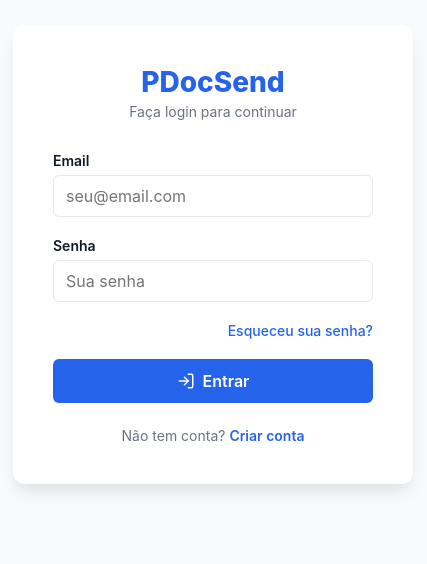
Test case: Login › deve mostrar mensagem pendente quando usuário não tem tenant
The width and height of the screenshot is (427, 564).
Type "test@test.com" into the field with placeholder "seu@email.com" at (213, 196), box top-left (53, 174), bottom-right (373, 216)
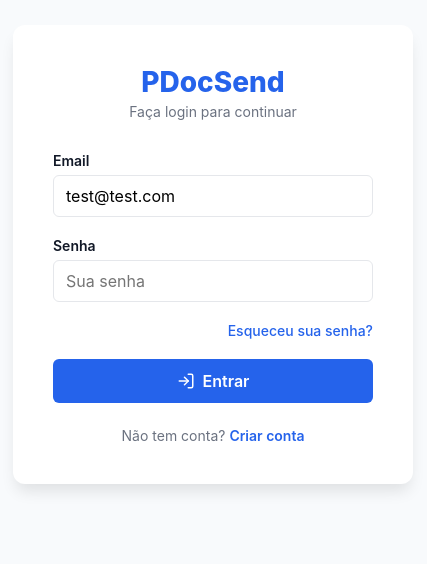
Type "123456" into the password field with placeholder "Sua senha" at (213, 280), box top-left (53, 260), bottom-right (373, 302)
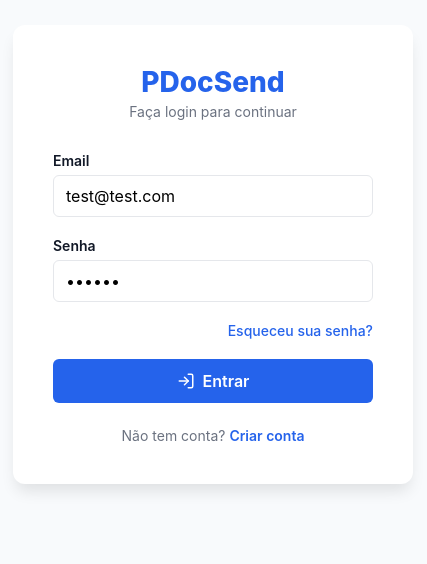
Click the button "Entrar" at (213, 380), box top-left (53, 358), bottom-right (373, 402)
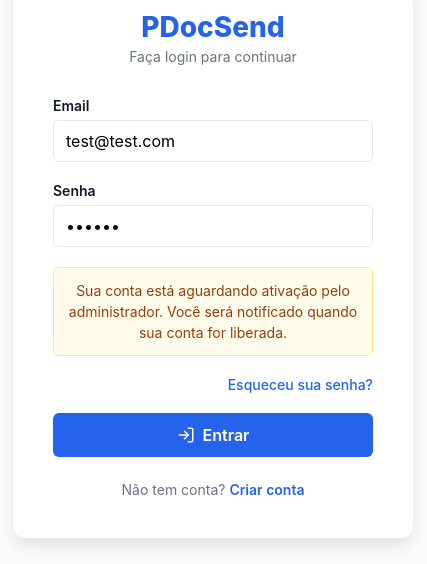
Check: the text "aguardando ativação" is shown, box top-left (69, 282), bottom-right (357, 341)
